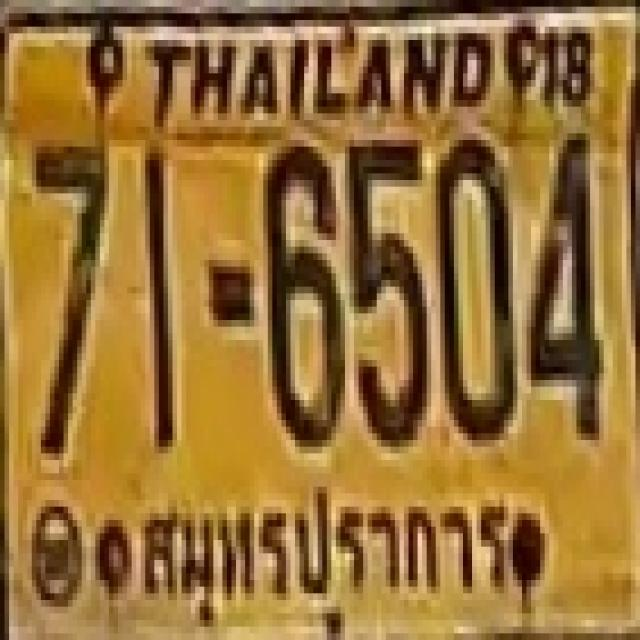0: (431, 134, 513, 434)
1: (140, 147, 172, 440)
4: (527, 127, 599, 433)
5: (345, 133, 427, 440)
6: (264, 144, 340, 444)
7: (32, 140, 104, 453)
SPK: (132, 468, 511, 622)
